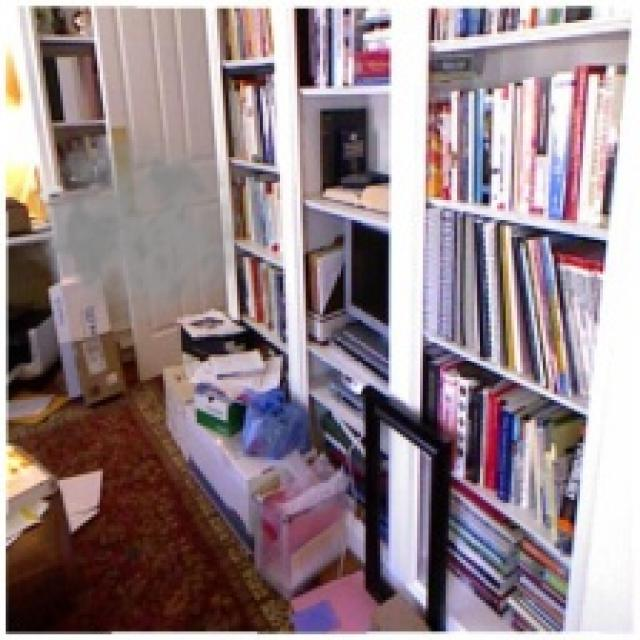smoke: (17, 111, 249, 326)
